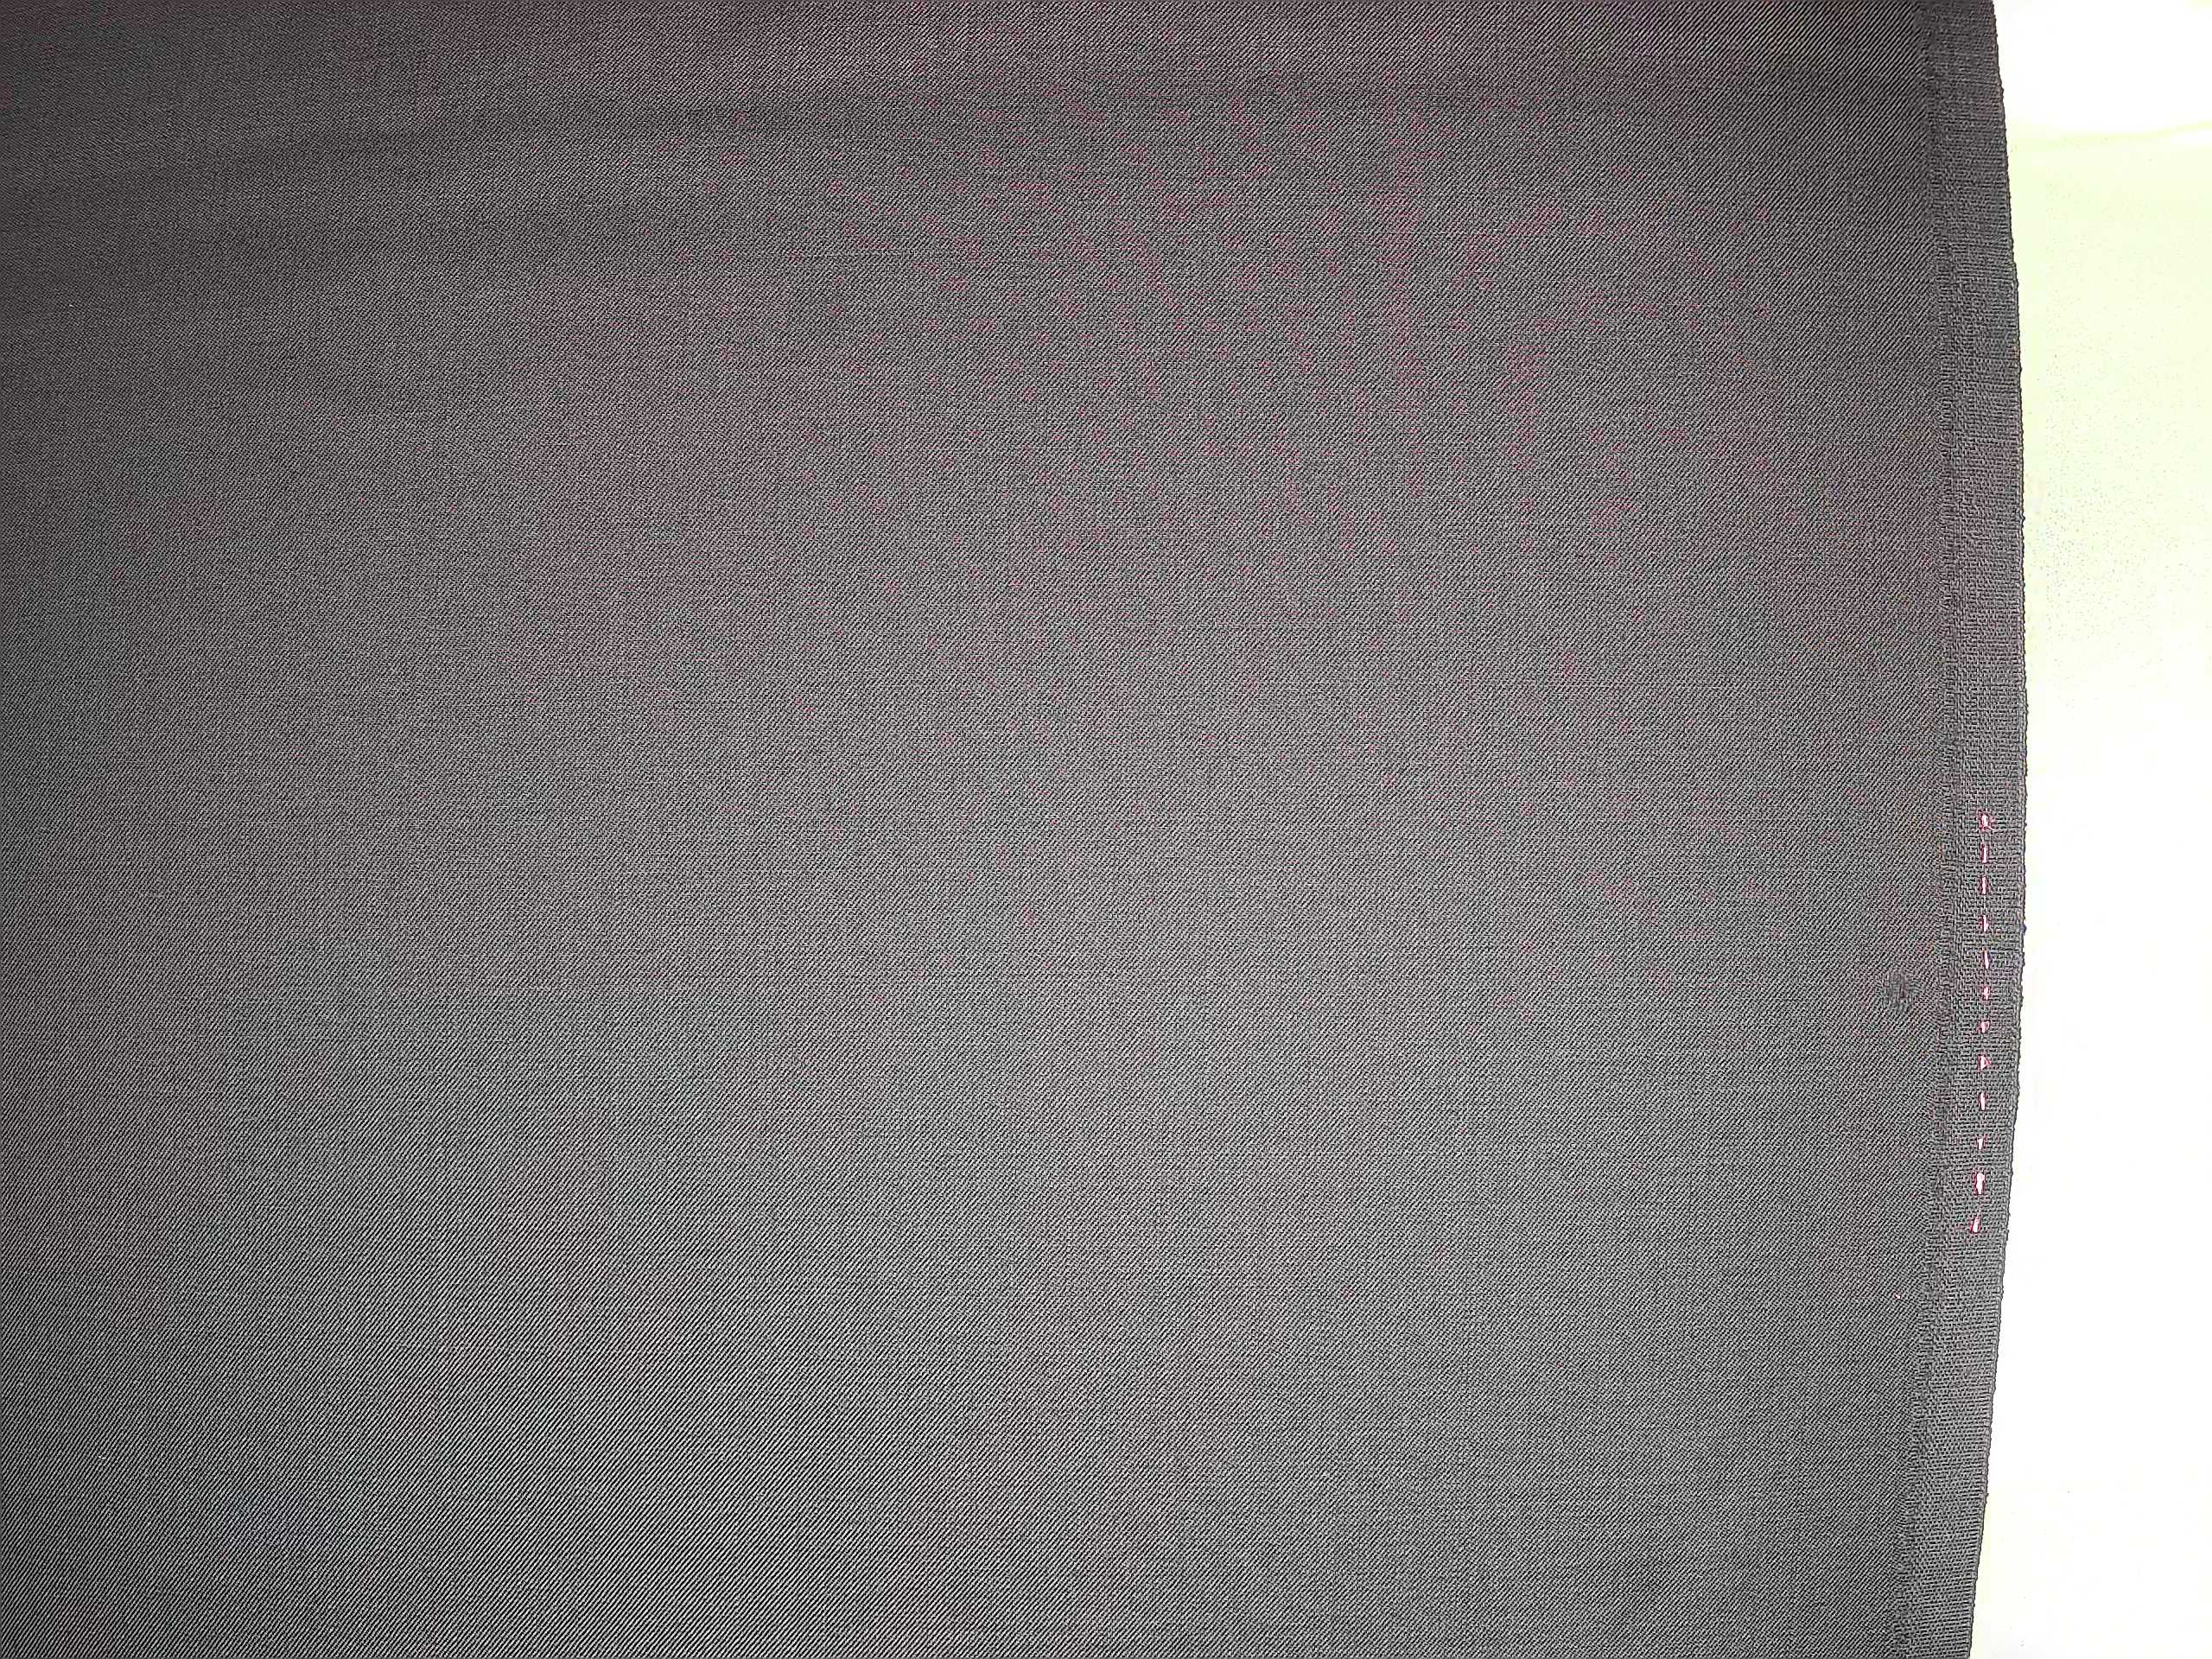brushed-hole: (1858, 951, 1940, 1044)
